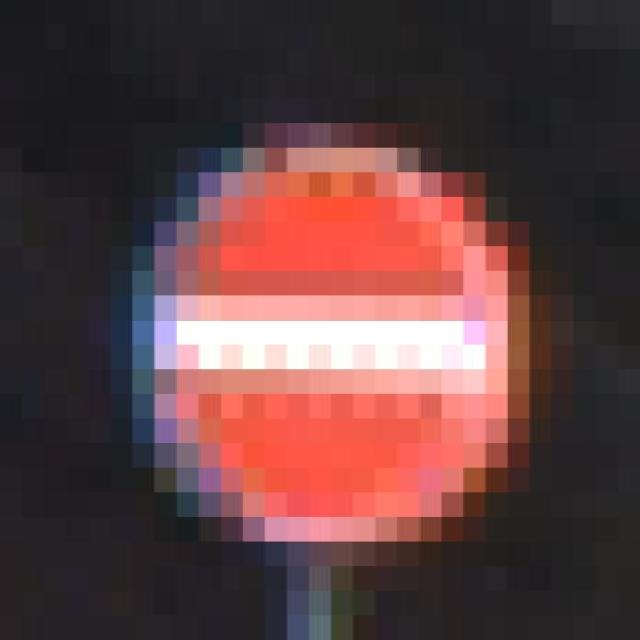No Entry: (66, 148, 574, 566)
